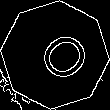O_SW: (21, 22, 89, 88)
